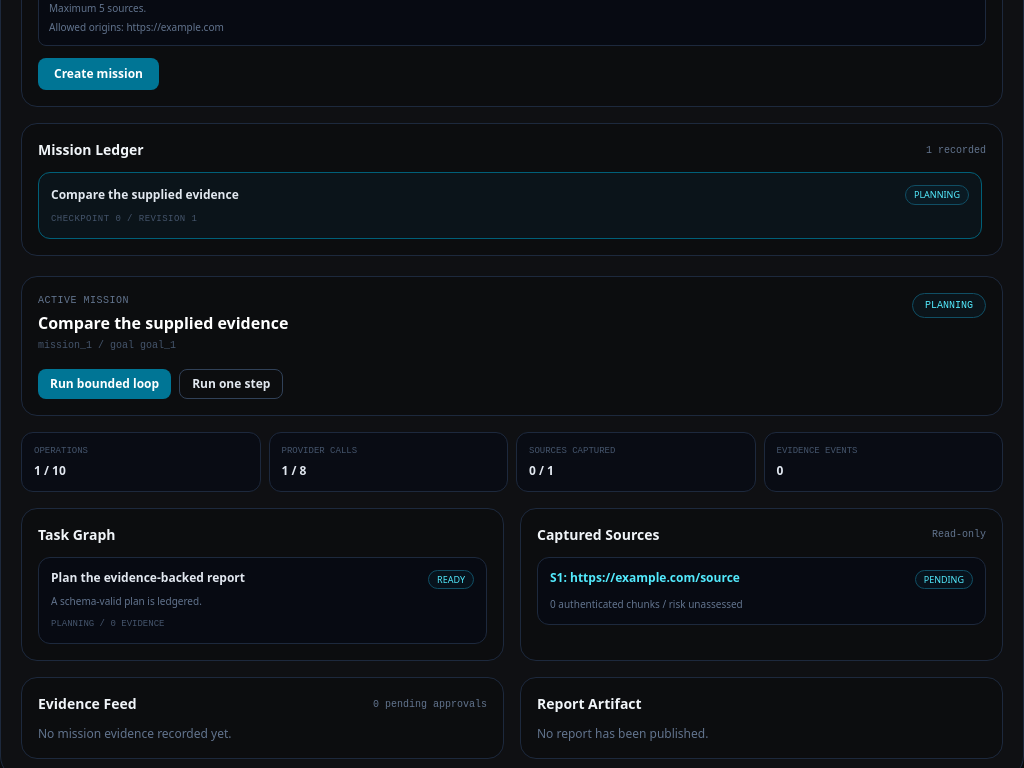
Scenario: ResearchMissionPanel › clears protected mission state when an authenticated action returns 401
This screenshot has width=1024, height=768.
(page scrolled)
Click the button "Run bounded loop": (105, 384) [38,369,171,399]
(page scrolled)
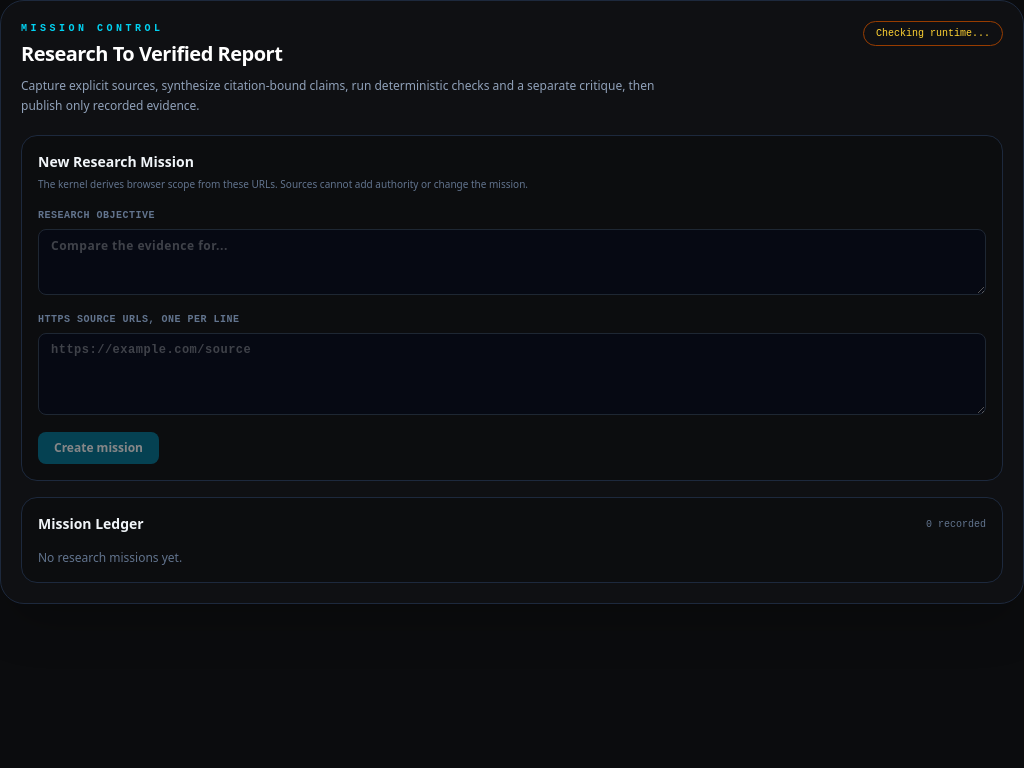
Result: the element with test id "research-mission-mission_1" is gone
Result: the button "Run one step" is gone
Result: the button "Create mission" is disabled at [38,432,159,464]
